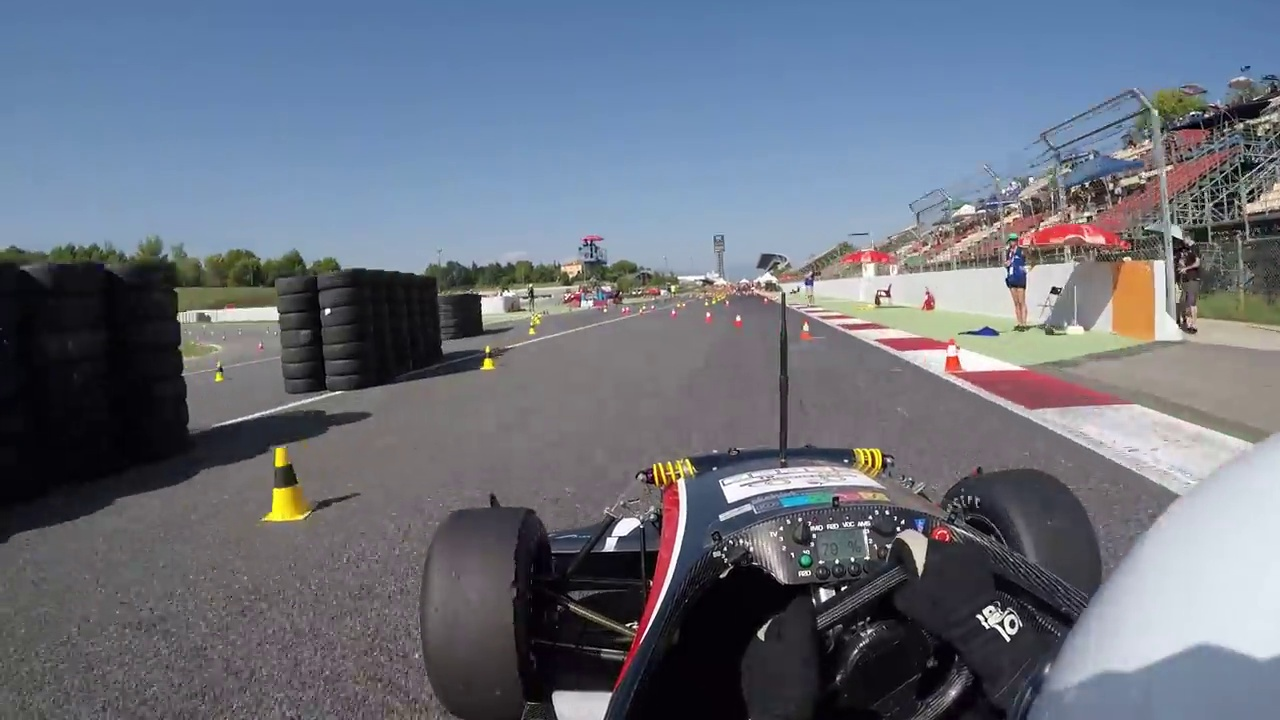Cone: (265, 447, 317, 517), (940, 336, 966, 375), (480, 340, 500, 372)
